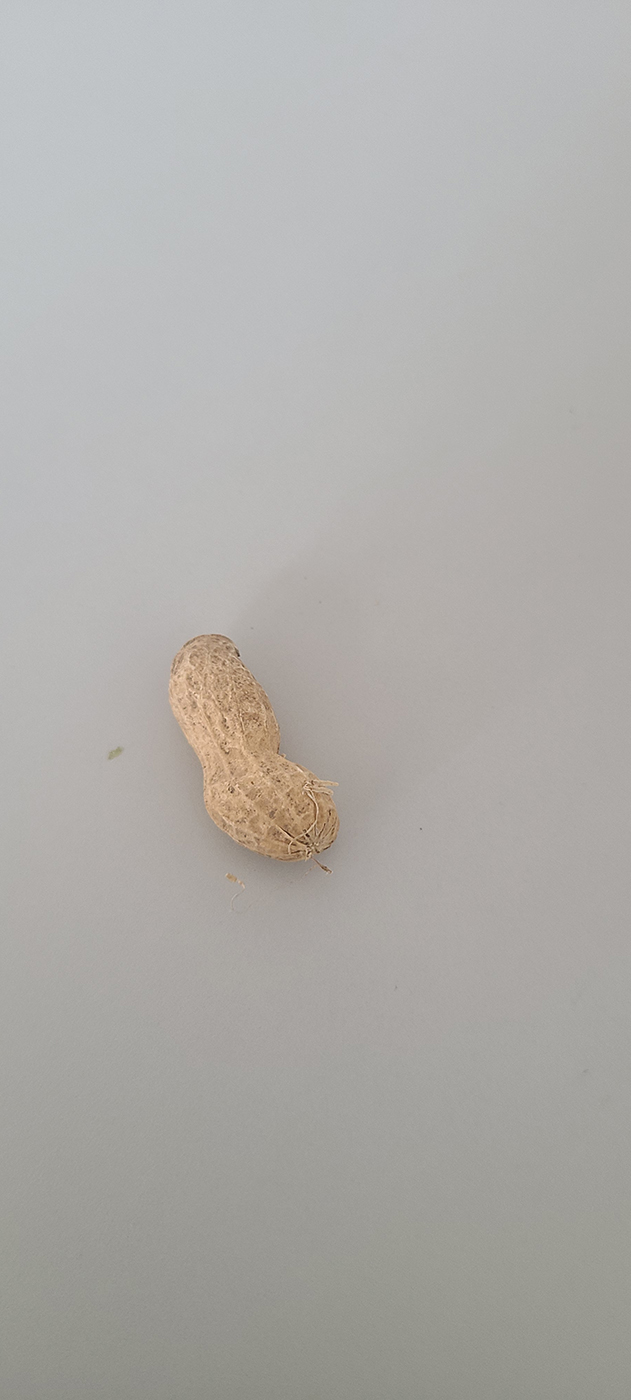h: (165, 637, 336, 862)
